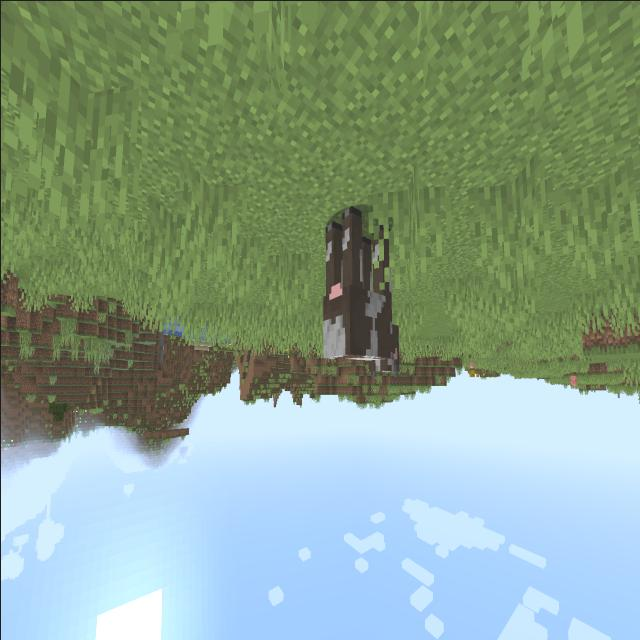cow: (312, 197, 406, 397)
